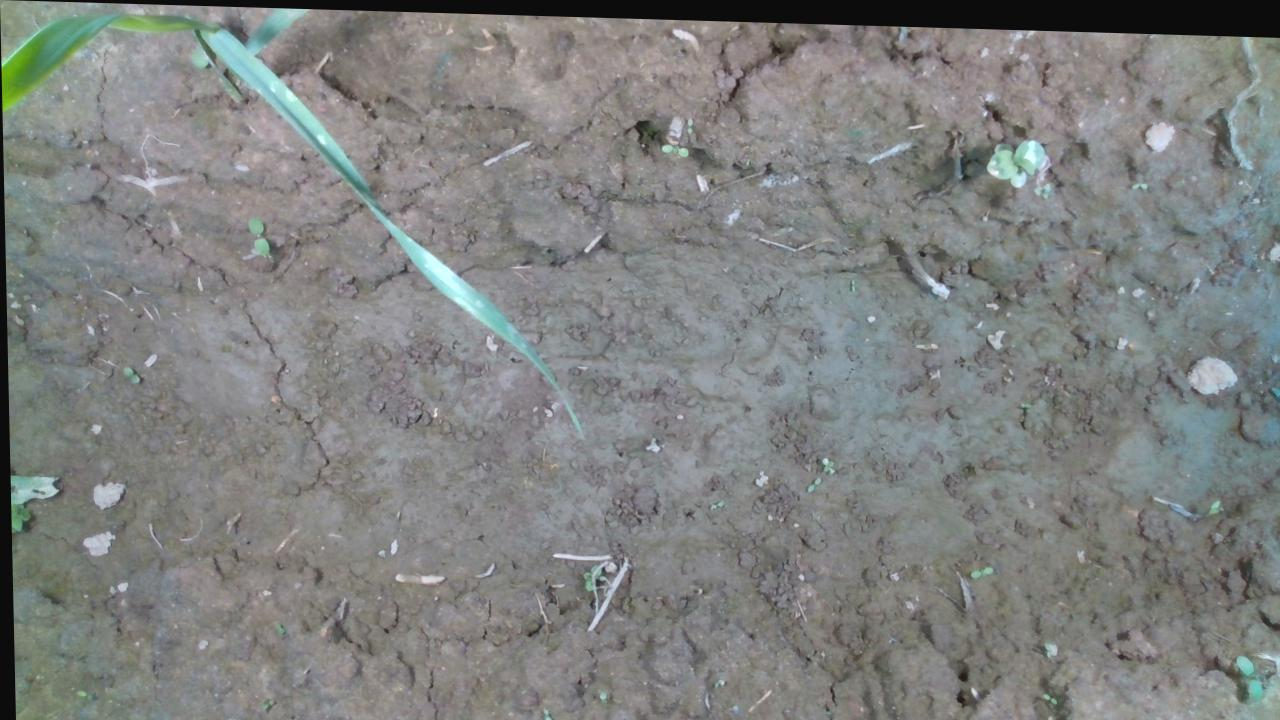weed: (816, 447, 862, 471), (115, 363, 154, 385), (649, 133, 690, 153), (1127, 168, 1148, 184)
